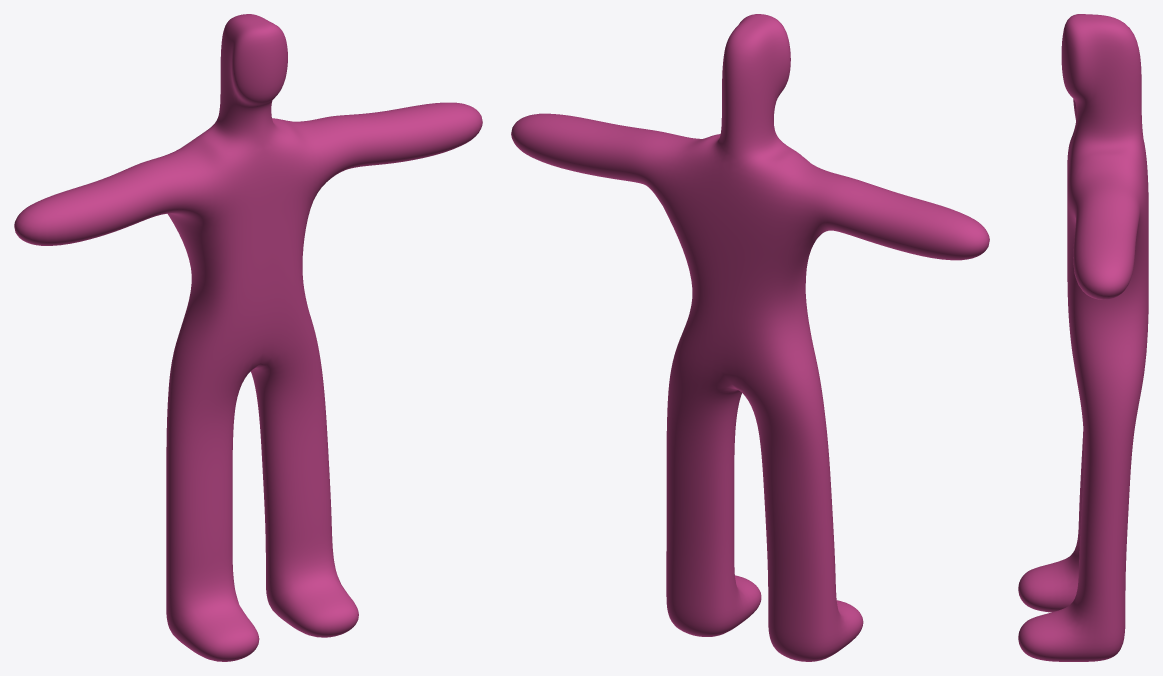
The model's file is boxman.fbx.
3 renders of one model, left to right at view 1: azimuth 30°, elevation 25°; view 2: azimuth 150°, elevation 25°; view 3: azimuth 270°, elevation 25°, orthographic. The views are drawn at different scales.
Visible parts, largest first — view 1: Cube; view 2: Cube; view 3: Cube.
Boxes of the visible parts, x1,y1,x2,y2 form: Cube: (14,14,482,661); Cube: (511,14,989,661); Cube: (1018,14,1148,661).
Bounding box in the file's own units: 439 × 552 × 107.
